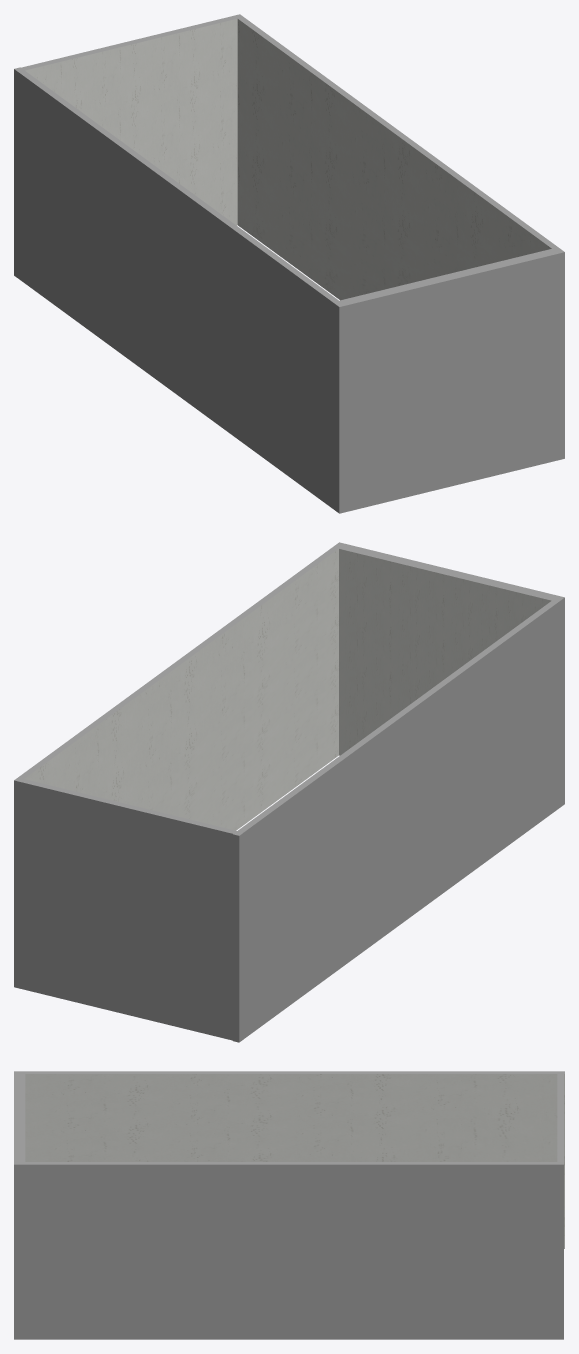
Rendered from paredesotao.fbx.
The picture shows the model from 3 angles, top to bottom: view 1: azimuth 30°, elevation 25°; view 2: azimuth 150°, elevation 25°; view 3: azimuth 270°, elevation 25°; orthographic projection. The views are drawn at different scales.
Visible parts, largest first — view 1: sótão; view 2: sótão; view 3: sótão.
Part boxes in pixels (x1,y1,x2,y2): sótão: (14,14,564,513); sótão: (14,542,564,1042); sótão: (14,1071,564,1339).
Size of the model in its own units: 7.57 by 6.63 by 18.92.
Materials: 2 (1 with a texture image).
